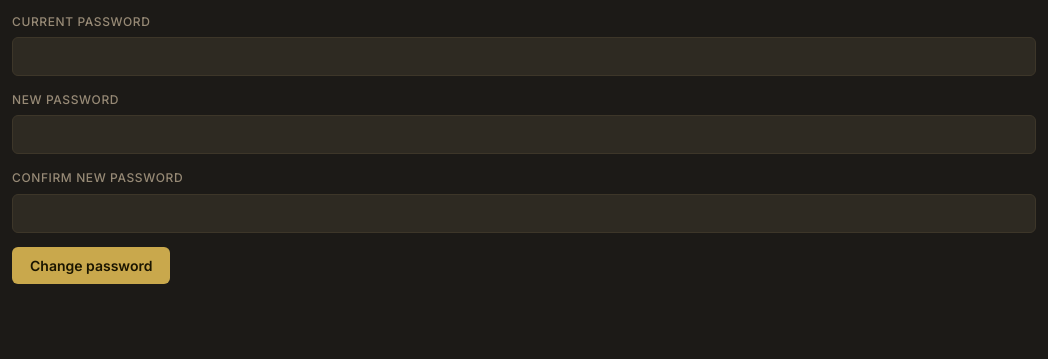
Test: ChangePasswordForm › shows the server's reply when the current password is wrong
This screenshot has width=1048, height=359.
Type "the old password 1" into the password field labelled "Current password" at (524, 57), box [12,37,1036,76]
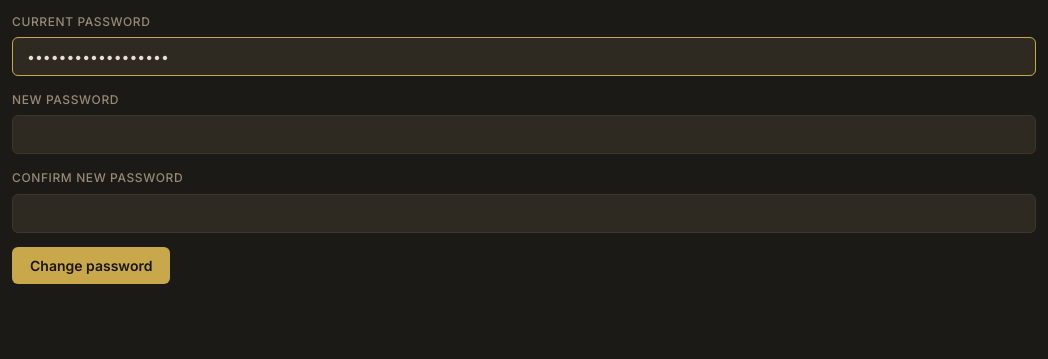
Type "a brand new password 2" into the password field labelled "New password" at (524, 135), box [12,115,1036,154]
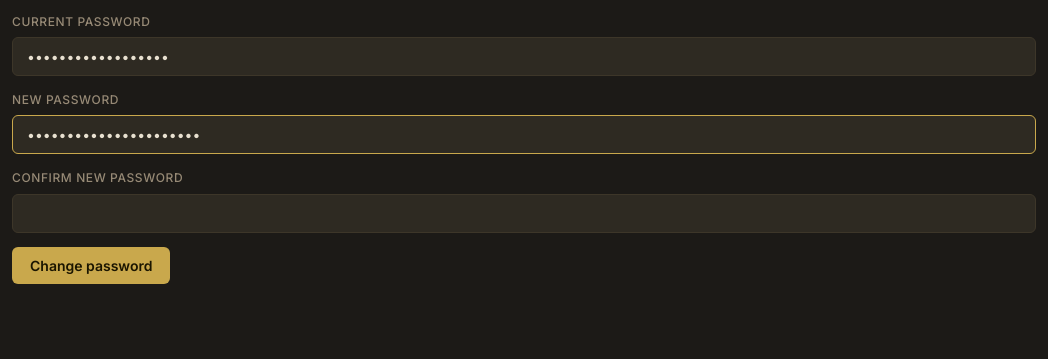
Type "a brand new password 2" into the password field labelled "Confirm new password" at (524, 213), box [12,194,1036,233]
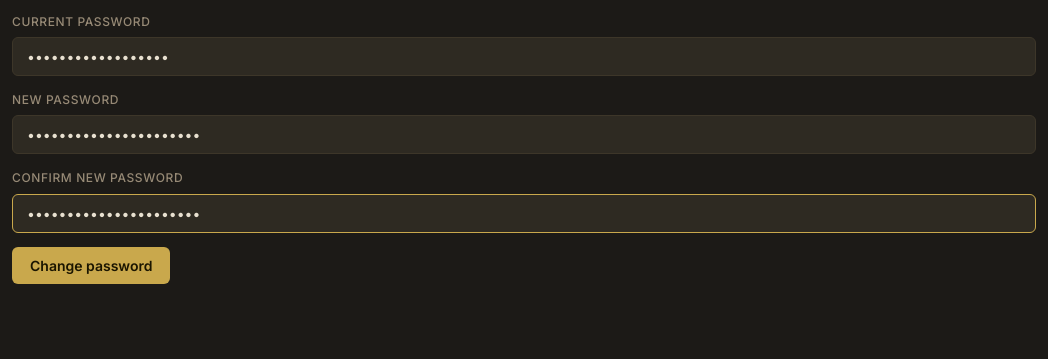
Click the button "Change password" at (91, 265), box [12,247,170,284]
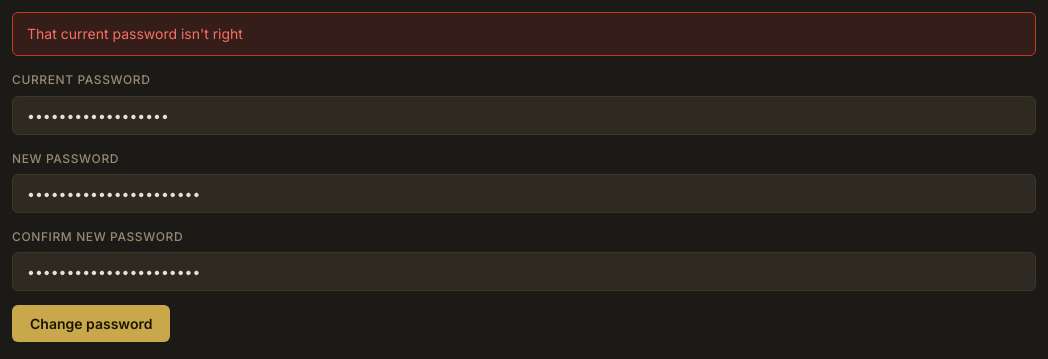
Expected: the text "That current password isn't right" is shown, [12,12,1036,56]
